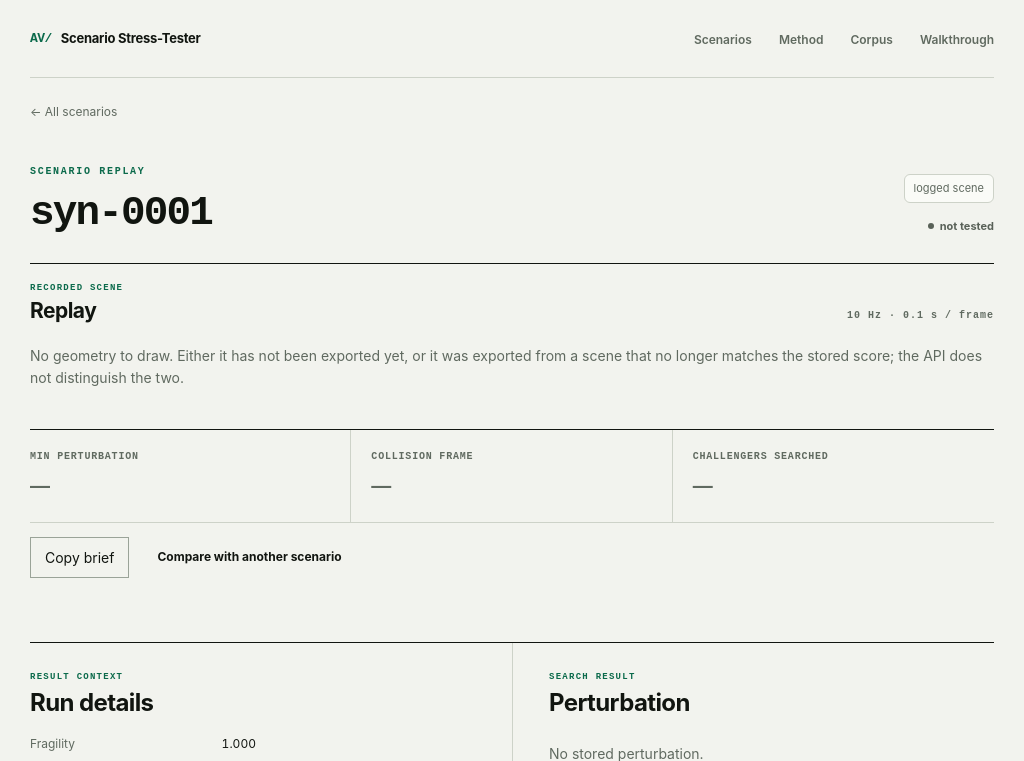
Test case: with the switch off › makes only GET requests anywhere in the app
Expected: the heading "Run details" is shown, [30,688,154,717]
What coordinates should you click on to do the following:
click the link "← All scenarios"
I would click on:
 (74, 112)
Its box is [30,103,117,122].
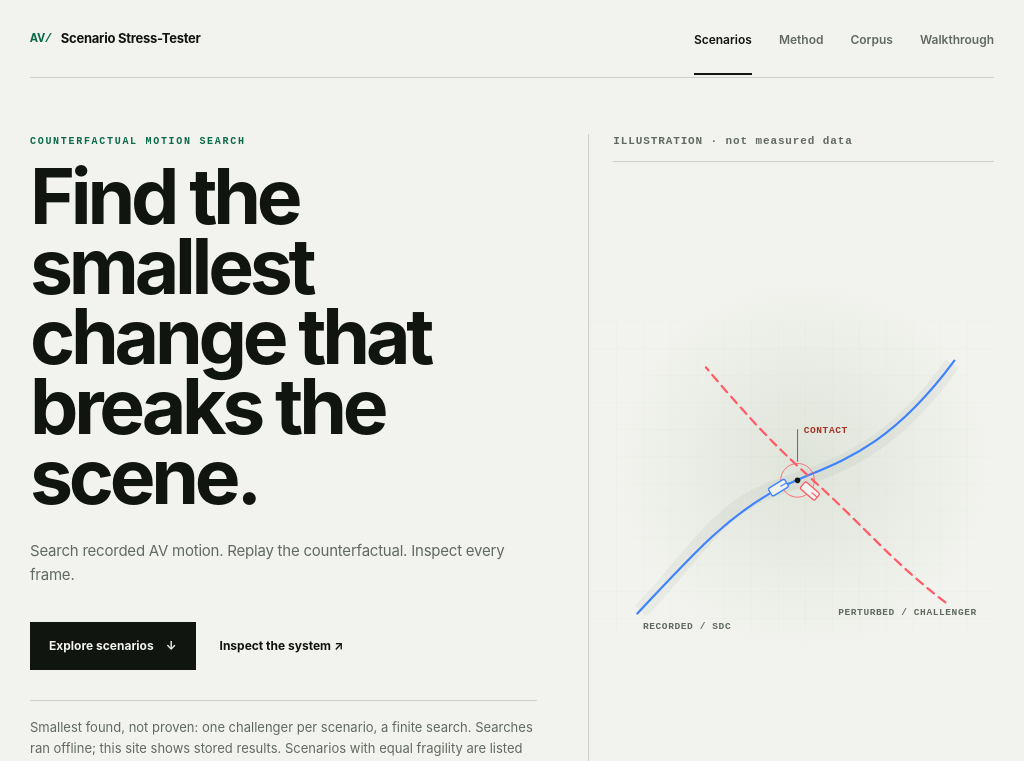
Now the heading "Find the smallest change that breaks the scene." is shown, box [30,150,430,522]
